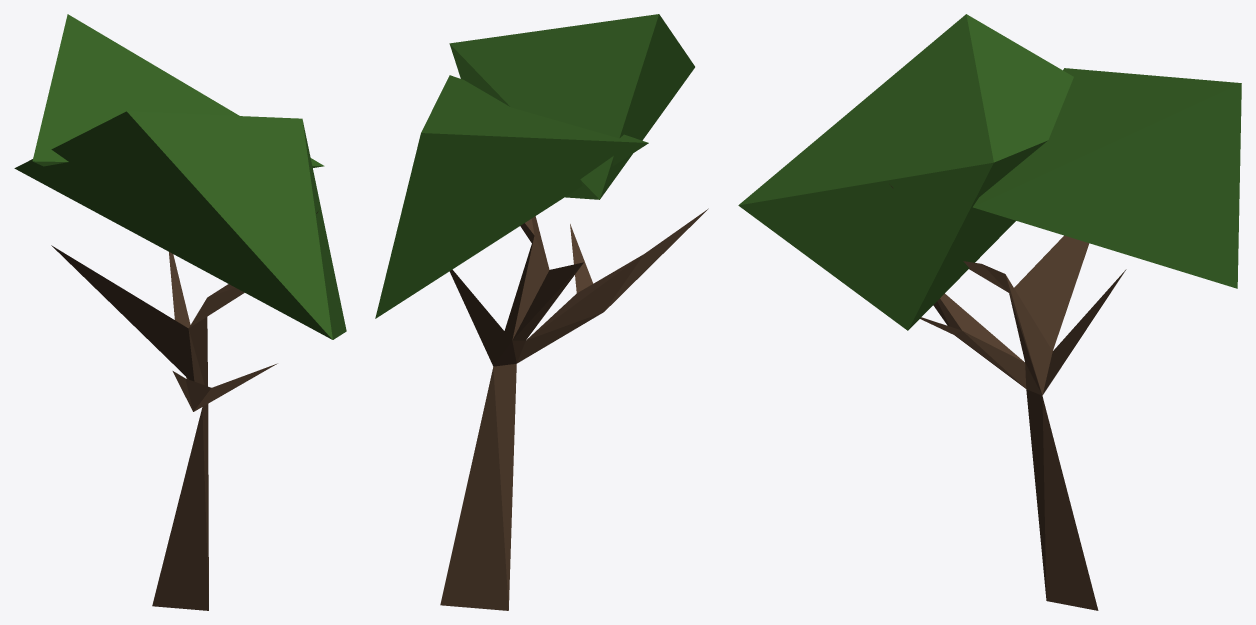
The model's file is tree_b_lod2.glb.
3 views of the same model, side by side, from view 1: azimuth 30°, elevation 25°; view 2: azimuth 150°, elevation 25°; view 3: azimuth 270°, elevation 25° (orthographic). The views are drawn at different scales.
Visible parts, largest first — view 1: tree_b_lod2; view 2: tree_b_lod2; view 3: tree_b_lod2.
Boxes of the visible parts, x1,y1,x2,y2 form: tree_b_lod2: (14,14,346,610); tree_b_lod2: (375,14,708,610); tree_b_lod2: (738,14,1241,610).
Bounding box in the file's own units: 1.15 × 2.55 × 2.19.
